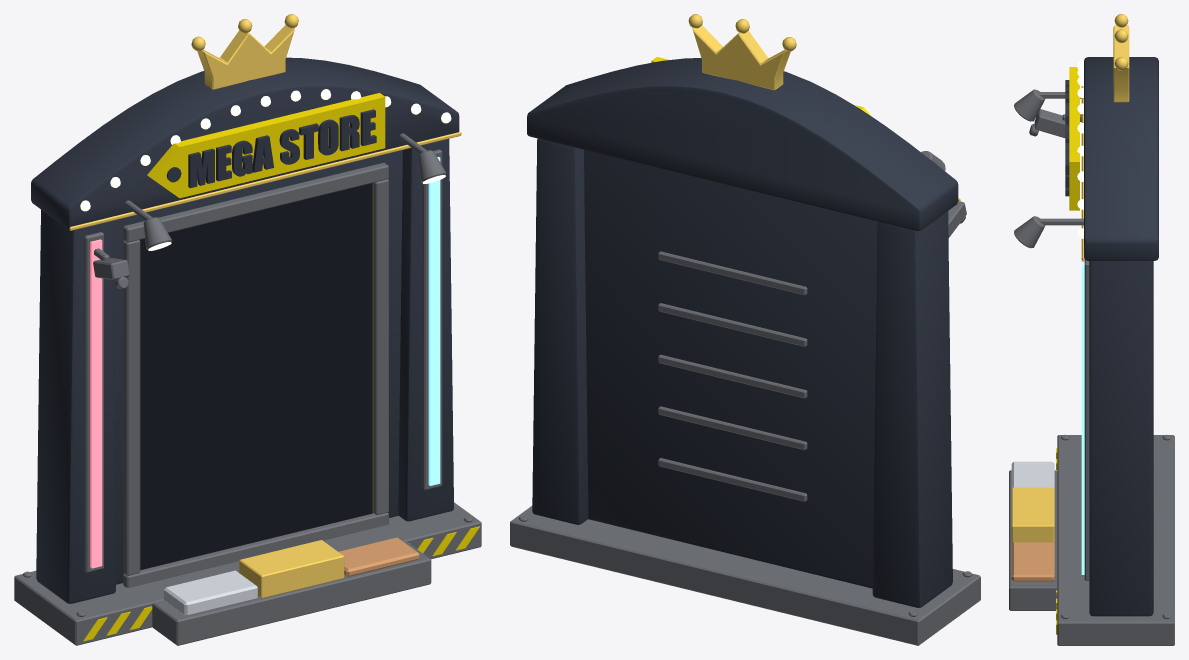
File: leaderboard.glb
3 renders of one model, left to right at view 1: azimuth 30°, elevation 25°; view 2: azimuth 150°, elevation 25°; view 3: azimuth 270°, elevation 25°, orthographic. The views are drawn at different scales.
Visible parts, largest first — view 1: LB_Screen, LB_Navy, LB_Metal, LB_Gold, LB_Yellow, LB_LedRed, LB_LedBlue, LB_Silver, LB_Bronze, LB_Lights; view 2: LB_Navy, LB_Metal, LB_Gold; view 3: LB_Navy, LB_Metal, LB_Gold, LB_Bronze, LB_Yellow, LB_LedBlue, LB_Silver, LB_Lights.
Part boxes in pixels (bbox=[...]): LB_Screen: bbox=[139, 183, 372, 570]; LB_Navy: bbox=[31, 57, 459, 603]; LB_Metal: bbox=[14, 133, 481, 645]; LB_Gold: bbox=[69, 14, 461, 598]; LB_Yellow: bbox=[83, 93, 479, 641]; LB_LedRed: bbox=[90, 239, 102, 568]; LB_LedBlue: bbox=[428, 157, 440, 485]; LB_Silver: bbox=[164, 570, 257, 616]; LB_Bronze: bbox=[338, 537, 419, 576]; LB_Lights: bbox=[80, 89, 451, 250]; LB_Navy: bbox=[527, 58, 958, 607]; LB_Metal: bbox=[510, 151, 980, 645]; LB_Gold: bbox=[688, 14, 960, 202]; LB_Navy: bbox=[1065, 57, 1158, 616]; LB_Metal: bbox=[1009, 89, 1174, 645]; LB_Gold: bbox=[1011, 14, 1129, 543]; LB_Bronze: bbox=[1011, 542, 1054, 581]; LB_Yellow: bbox=[1056, 67, 1079, 634]; LB_LedBlue: bbox=[1081, 262, 1084, 574]; LB_Silver: bbox=[1011, 461, 1054, 488]; LB_Lights: bbox=[1014, 60, 1083, 248].
Size of the model in its own units: 16.6 by 21.55 by 6.2.
